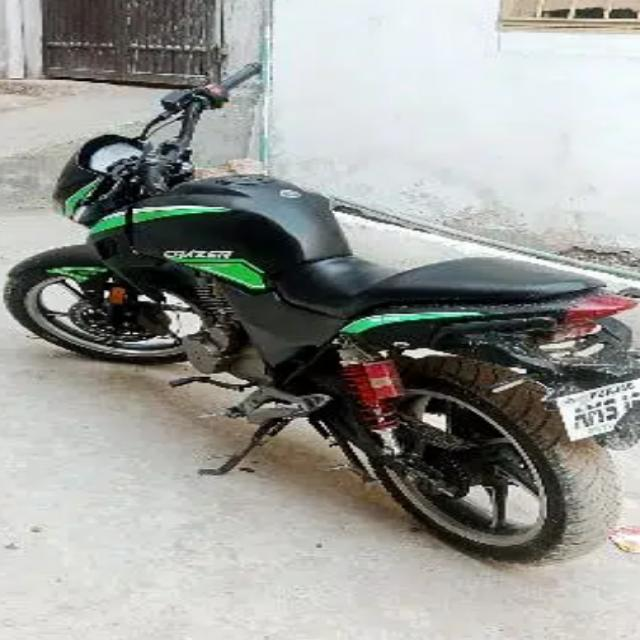Bike: (48, 69, 640, 583)
